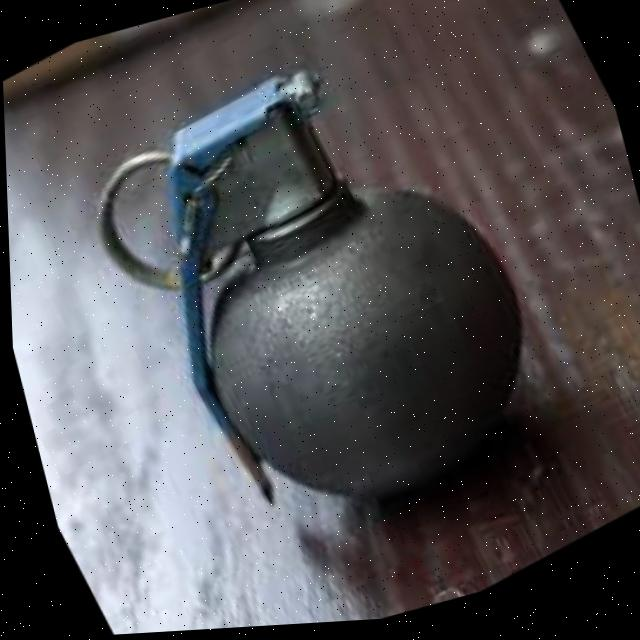grenade: (49, 0, 604, 609)
